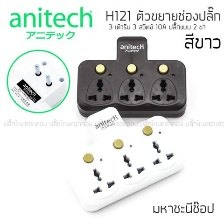three_eye_plug: (64, 103, 189, 215), (73, 34, 189, 121)
